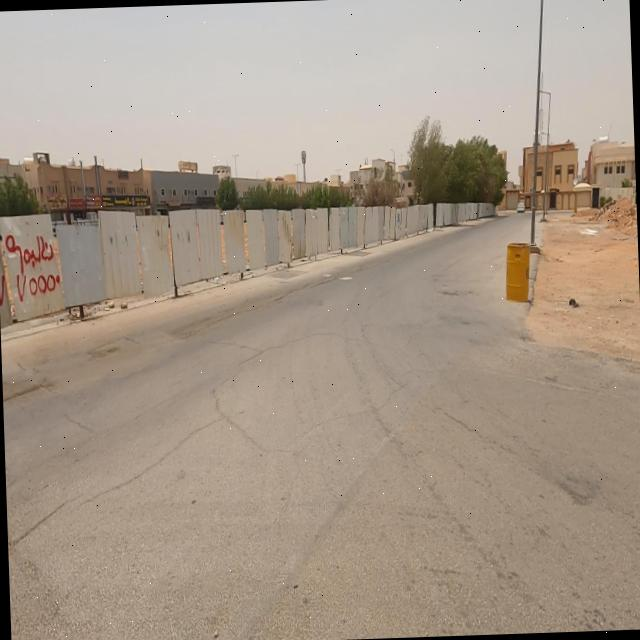Graffiti: (1, 232, 62, 305)
